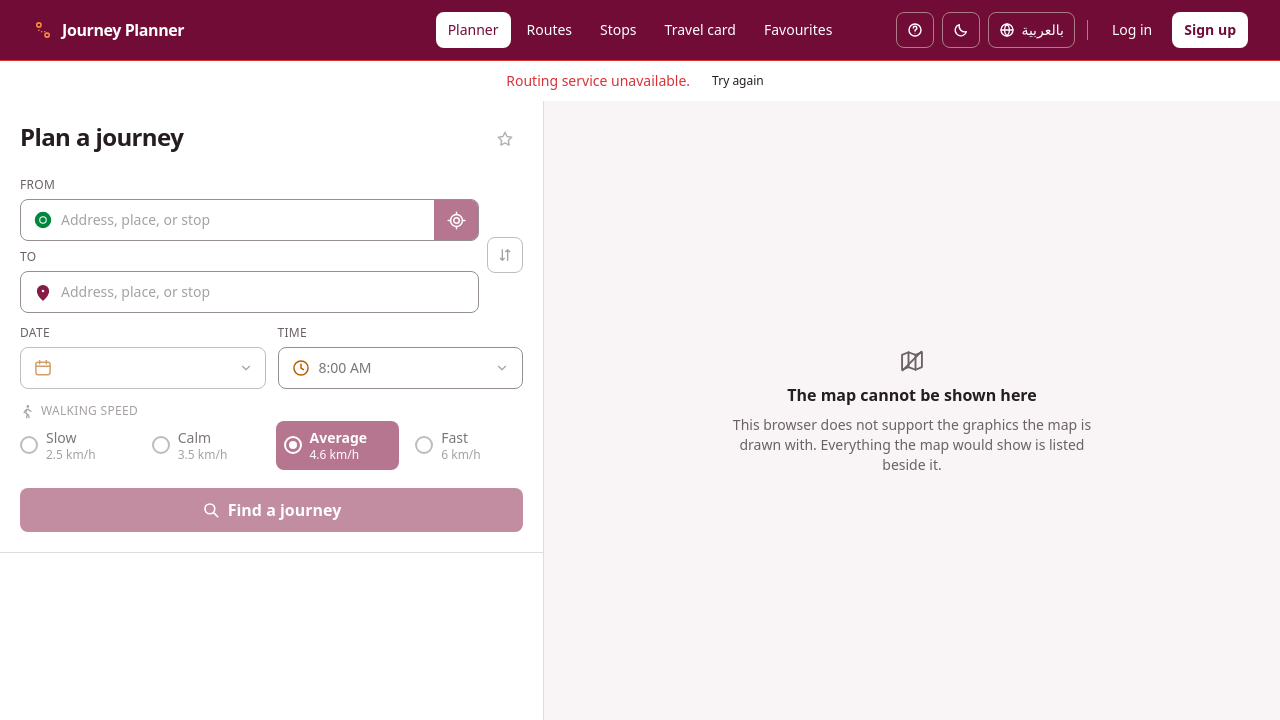
auth › validates the form before it costs a request
Click the button "Log in".
click(1132, 30)  # box [1100, 12, 1164, 48]
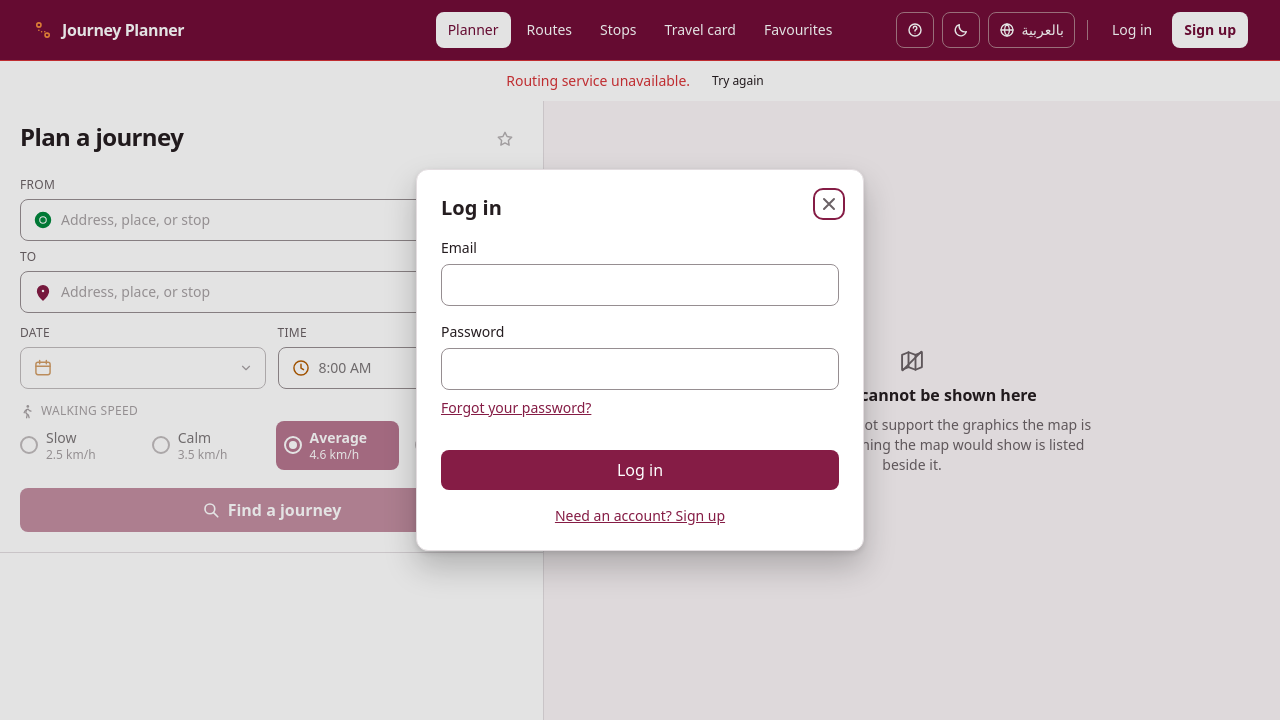
Submit the form from the button "Log in", box [441, 450, 839, 490]
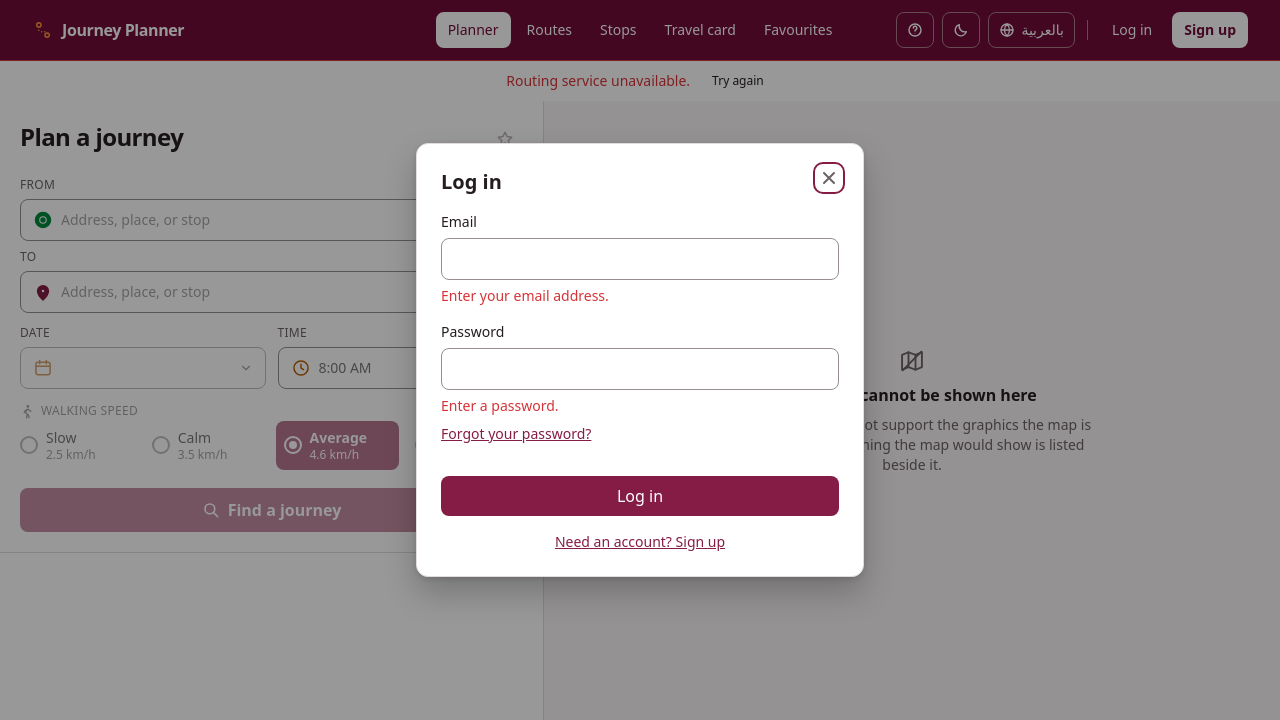
Now the text "Enter your email address." is shown, box [441, 286, 609, 305]
Now the text "Enter a password." is shown, box [441, 396, 558, 415]
